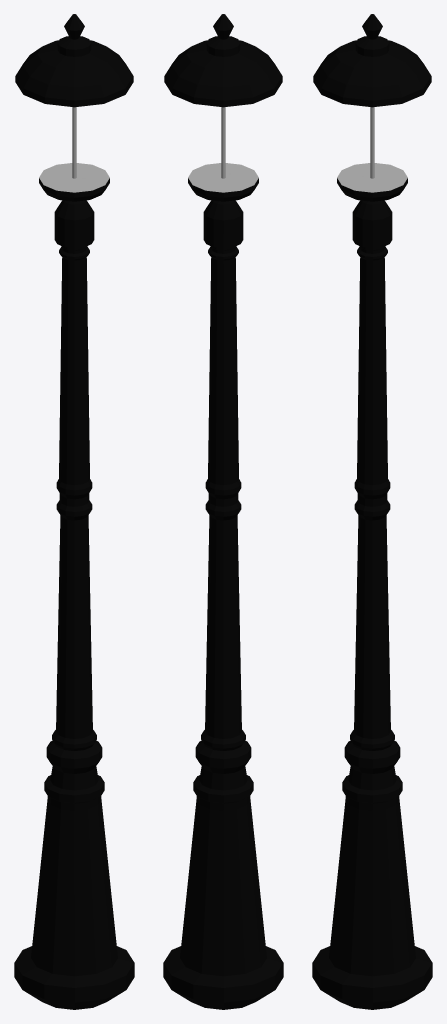
Rendered from Lamp_Post_01.fbx.
3 renders of one model, left to right at view 1: azimuth 90°, elevation 25°; view 2: azimuth 150°, elevation 25°; view 3: azimuth 270°, elevation 25°, orthographic.
Visible parts, largest first — view 1: Cylinder; view 2: Cylinder; view 3: Cylinder.
Boxes of the visible parts, x1,y1,x2,y2 form: Cylinder: (14,14,134,1009); Cylinder: (163,14,283,1009); Cylinder: (312,14,432,1009).
Bounding box in the file's own units: 42.57 × 383 × 42.57.
Materials: 1 (1 with a texture image).
